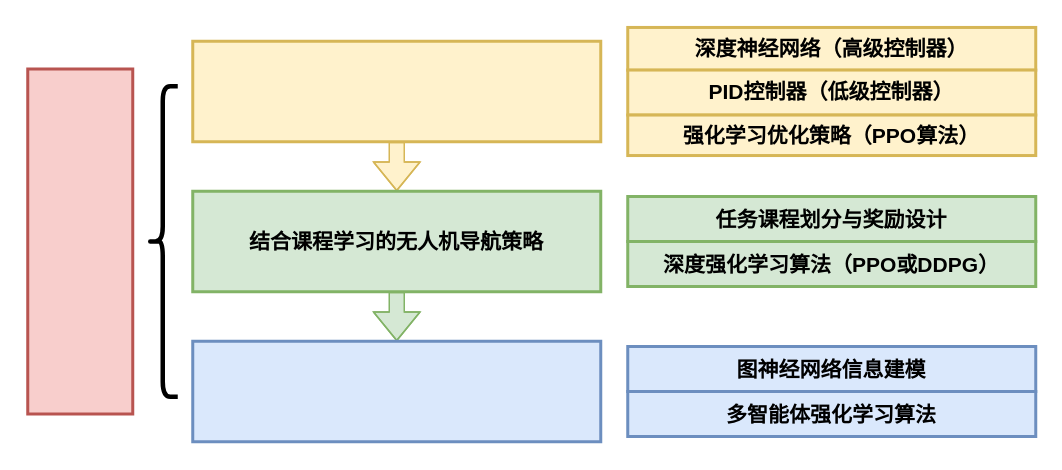
Some shapes in this 1062 by 470 pixel diagram are drawn without their labels. The shapes that lost their labels are listed below. From the top down, each one's centre as x and y in pixels, then its label:
point (396, 90): 基于深度强化学习的无人机控制策略优化
point (80, 241): 提升无人机在复杂环境中的自主导航与决策能力
point (396, 390): 基于图神经网络的多智能体决策
